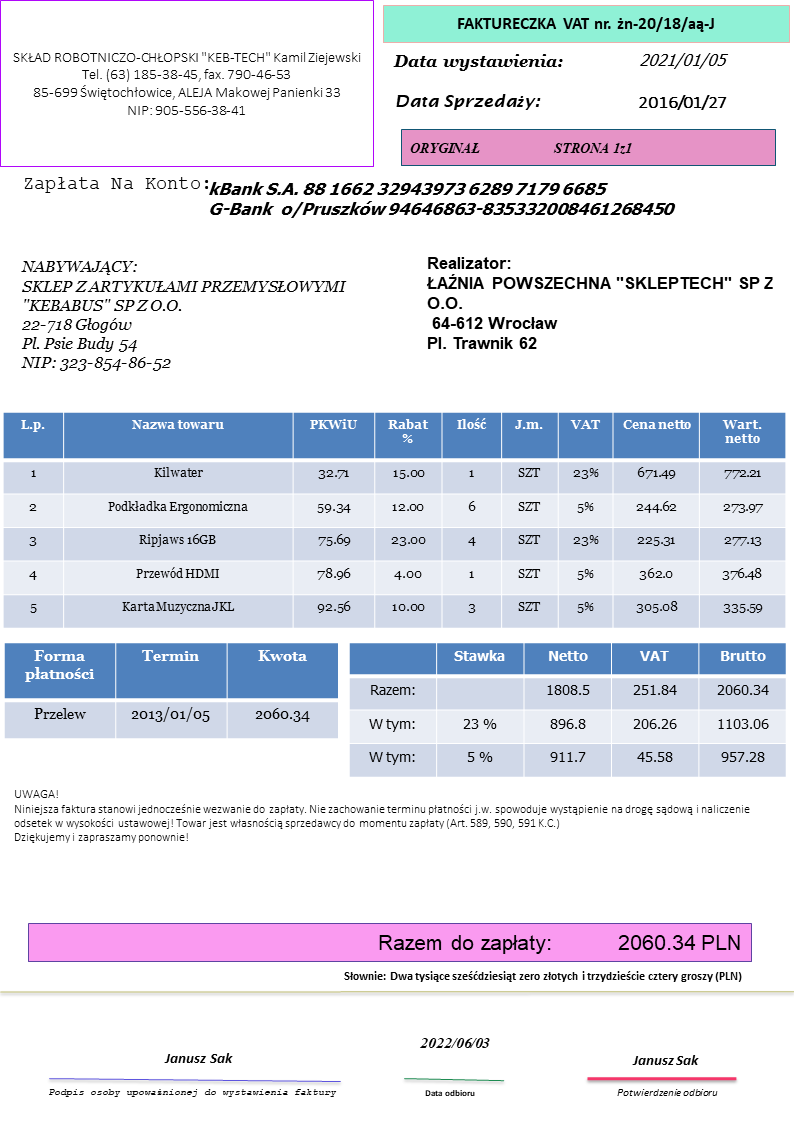Table: (1, 409, 787, 631), (348, 641, 789, 780), (3, 640, 338, 739)
TextBox: (12, 786, 753, 845), (19, 256, 350, 376), (423, 255, 779, 357), (10, 46, 365, 124), (208, 181, 679, 219), (376, 931, 742, 955), (341, 968, 746, 985), (453, 11, 717, 35), (391, 50, 563, 77), (408, 139, 636, 159), (44, 1087, 338, 1100), (21, 174, 211, 194), (391, 91, 543, 114), (638, 49, 730, 73), (636, 91, 728, 112), (160, 1048, 235, 1069), (614, 1087, 721, 1099), (417, 1035, 493, 1051), (629, 1053, 701, 1068), (421, 1087, 479, 1100)
